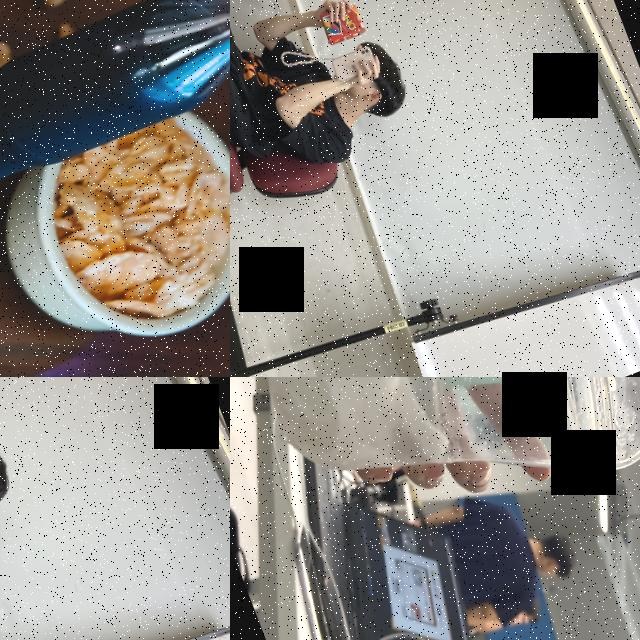bottle: (0, 0, 230, 220)
cup: (231, 377, 640, 586)
